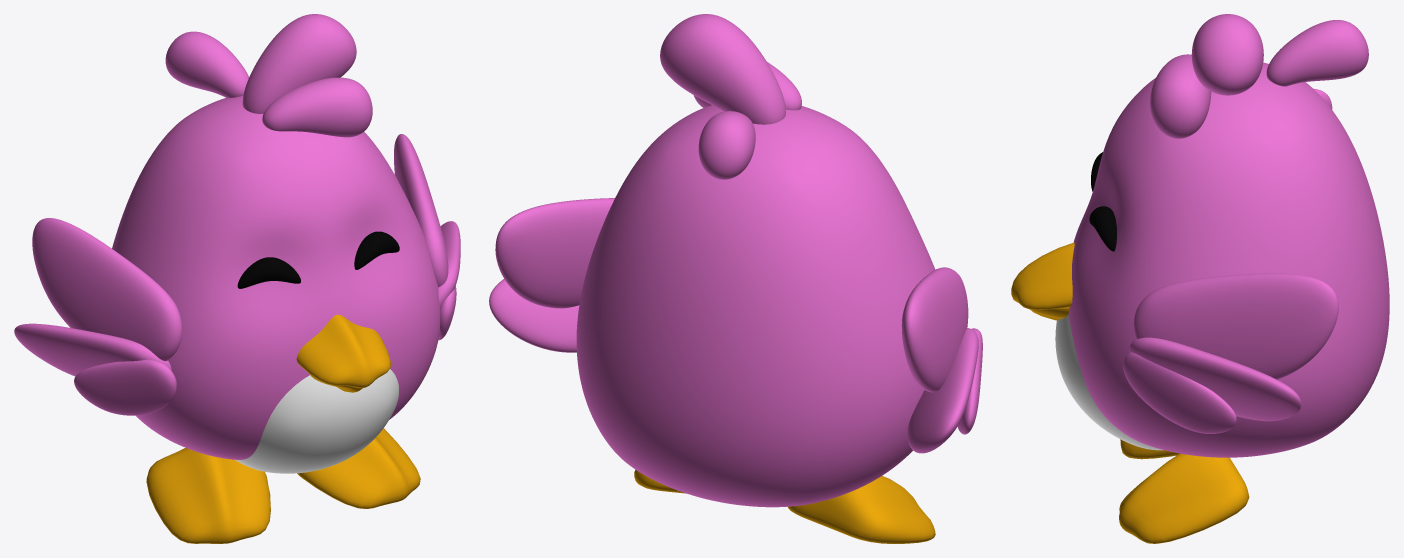
The model's file is Bird_3d.glb.
3 renders of one model, left to right at view 1: azimuth 30°, elevation 25°; view 2: azimuth 150°, elevation 25°; view 3: azimuth 270°, elevation 25°, orthographic. The views are drawn at different scales.
Parts seen in each view (by area): view 1: Cube.061, Cube.067, Cube.070, Cube.072, Cube.062, Cube.068, Cube.071, Cube.069, Cube.063, Cube.065, Cube.064, Sphere.020; view 2: Cube.061, Cube.067, Cube.062, Cube.068, Cube.072, Cube.064, Cube.069, Cube.063; view 3: Cube.061, Cube.067, Cube.071, Cube.068, Cube.064, Cube.069, Cube.062, Cube.063, Cube.065, Cube.070, Sphere.020, Cube.072.
Boxes of the visible parts, x1,y1,x2,y2 form: Cube.061: [112, 96, 440, 459]; Cube.067: [32, 134, 448, 360]; Cube.070: [235, 369, 398, 473]; Cube.072: [146, 448, 270, 543]; Cube.062: [242, 14, 356, 113]; Cube.068: [14, 221, 460, 376]; Cube.071: [297, 428, 420, 508]; Cube.069: [74, 286, 456, 415]; Cube.063: [262, 77, 372, 137]; Cube.065: [296, 314, 390, 388]; Cube.064: [165, 31, 249, 98]; Sphere.020: [237, 231, 399, 288]; Cube.061: [576, 105, 935, 507]; Cube.067: [495, 198, 968, 392]; Cube.062: [660, 14, 785, 124]; Cube.068: [489, 279, 978, 453]; Cube.072: [787, 476, 935, 543]; Cube.064: [698, 111, 755, 179]; Cube.069: [957, 328, 982, 434]; Cube.063: [693, 62, 801, 110]; Cube.061: [1068, 62, 1389, 457]; Cube.067: [1133, 88, 1338, 379]; Cube.071: [1119, 453, 1249, 543]; Cube.068: [1129, 337, 1301, 421]; Cube.064: [1266, 20, 1368, 86]; Cube.069: [1123, 352, 1236, 433]; Cube.062: [1191, 14, 1263, 95]; Cube.063: [1150, 54, 1211, 138]; Cube.065: [1011, 242, 1074, 309]; Cube.070: [1055, 315, 1163, 450]; Sphere.020: [1089, 152, 1116, 251]; Cube.072: [1120, 439, 1179, 459].
Bounding box in the file's own units: 5.76 × 5.9 × 4.11.
